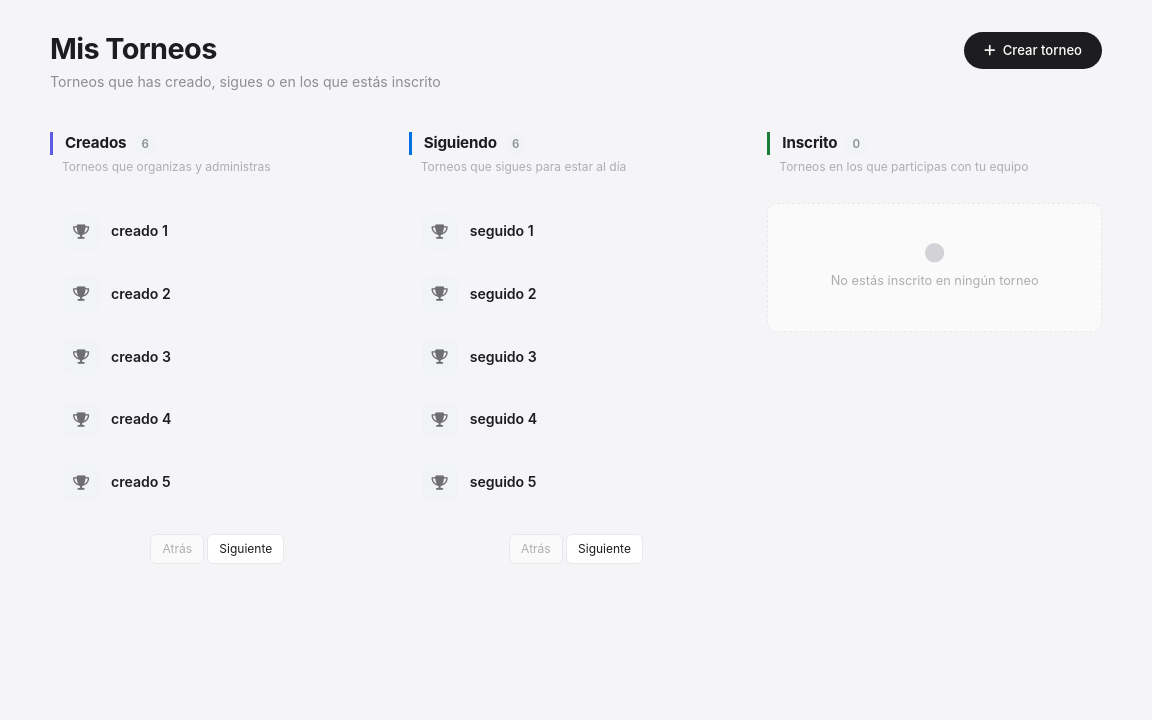
Test: MyTournaments › mantiene paginación independiente por sección
Expected: the text "creado 1" is shown, [111,222,168,239]
Expected: the text "seguido 1" is shown, [470,222,534,239]
Pasar página solo en "Creados"
Click the text "Siguiente" below "creado 5": (246,548) [219,541,272,556]
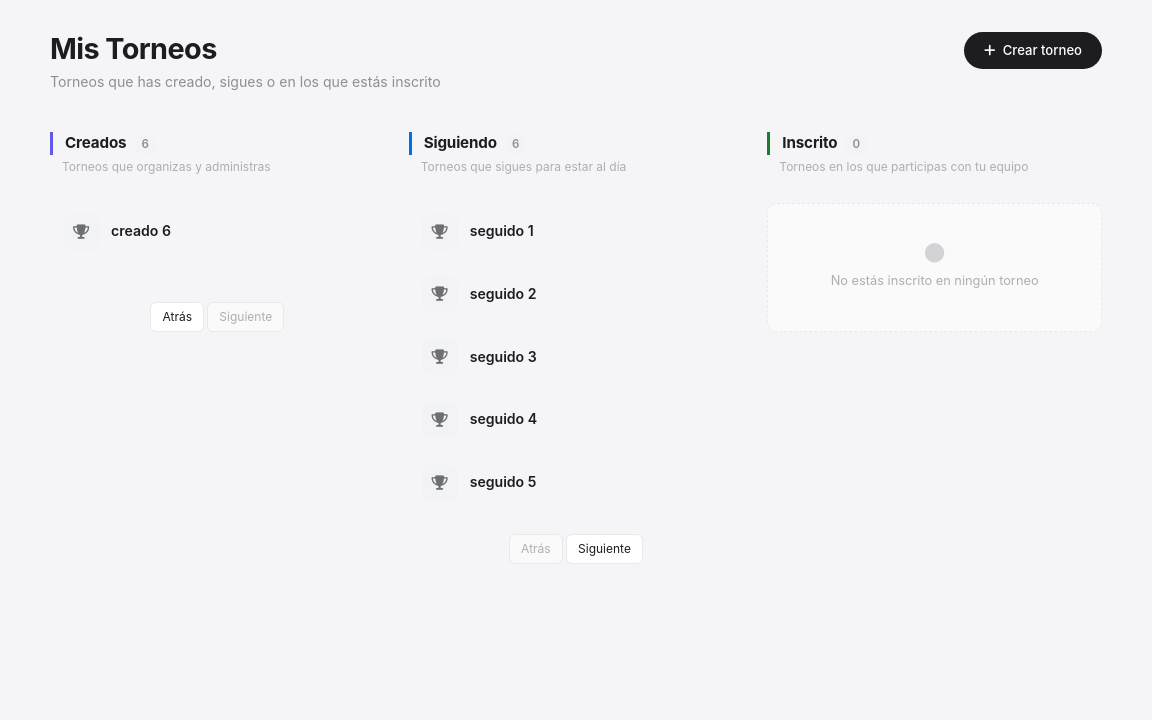
Expected: the text "seguido 1" is shown, [470,222,534,239]
Now the text "creado 6" is shown, box [111,222,171,239]
Now the link "creado 1" is gone
